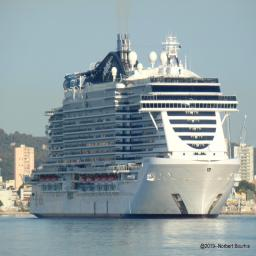cruises: (29, 32, 244, 222)
